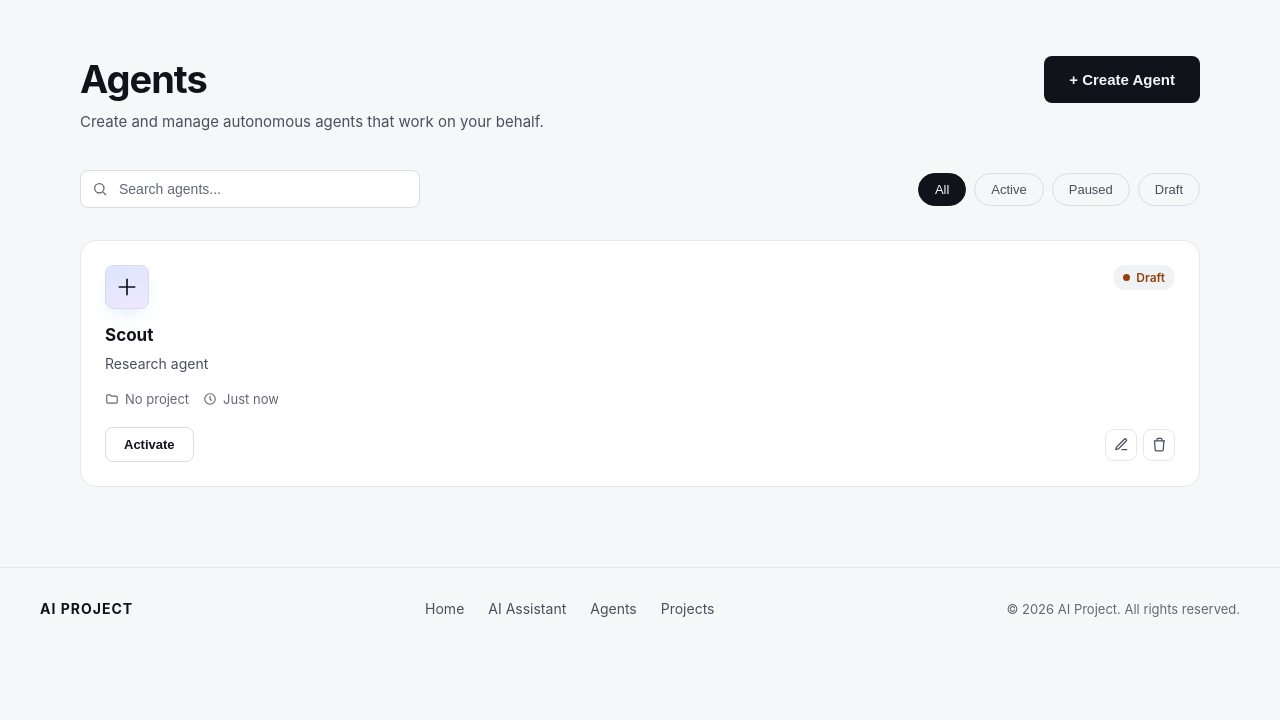
Test: Agents — mutations › deletes an agent and removes it from the cached list
Check: the heading "Scout" is shown, box [105,325,153,345]
Click the button named "Delete Scout". click: (1159,445)
box: [1143,429,1175,461]
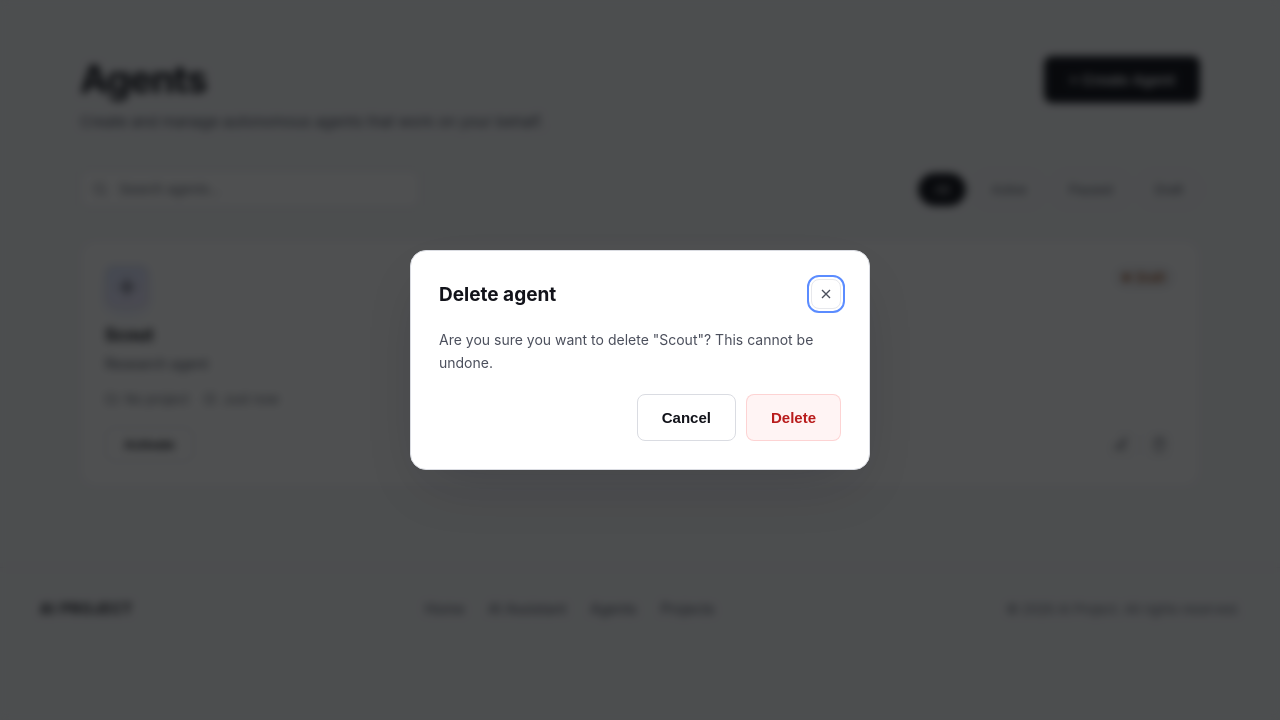
Check: the heading "Delete agent" is shown, box [439,283,556,306]
Click the button "Delete". click: (794,417)
box: [746,394,841,441]
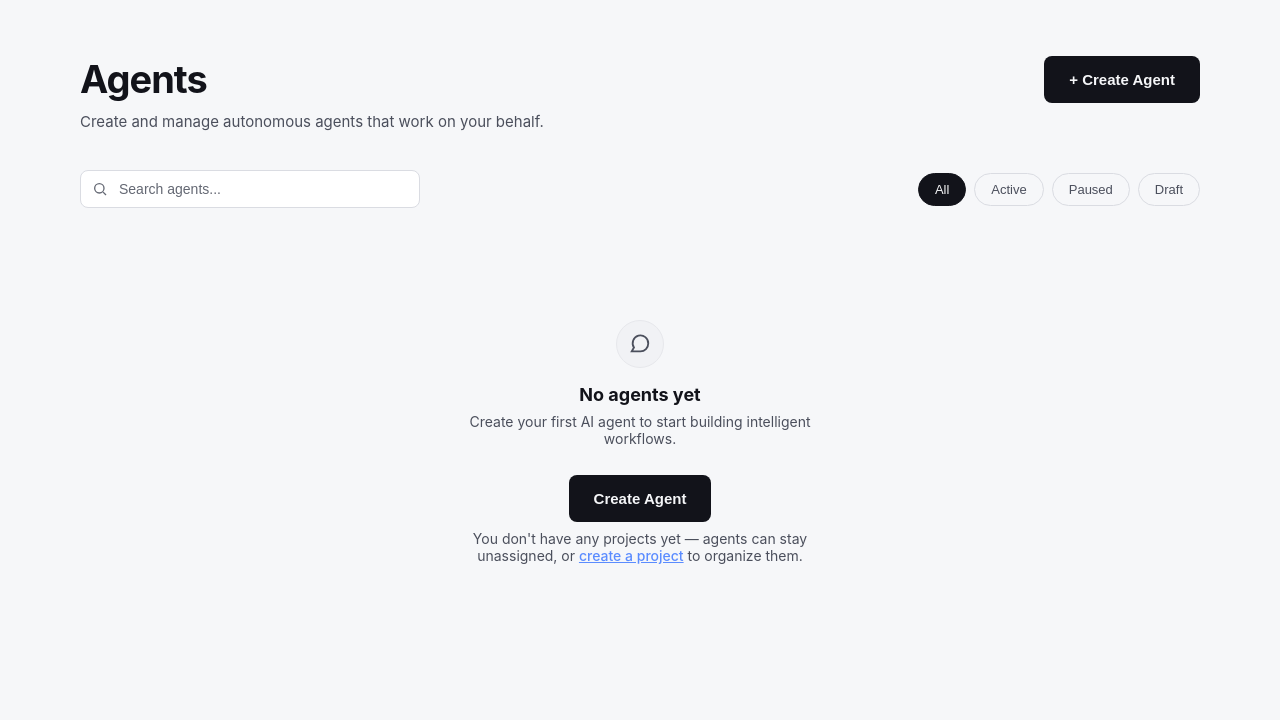
Check: the heading "Scout" is gone
Check: the heading "No agents yet" is shown, box [579,384,701,405]
